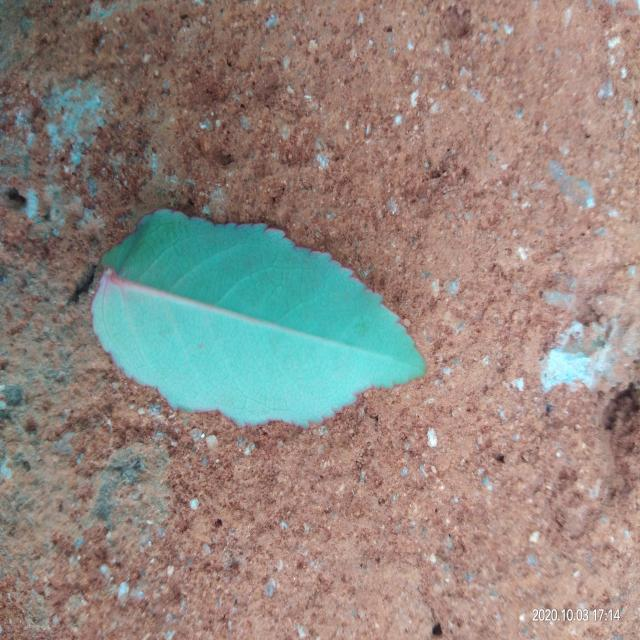rose: (91, 210, 425, 427)
